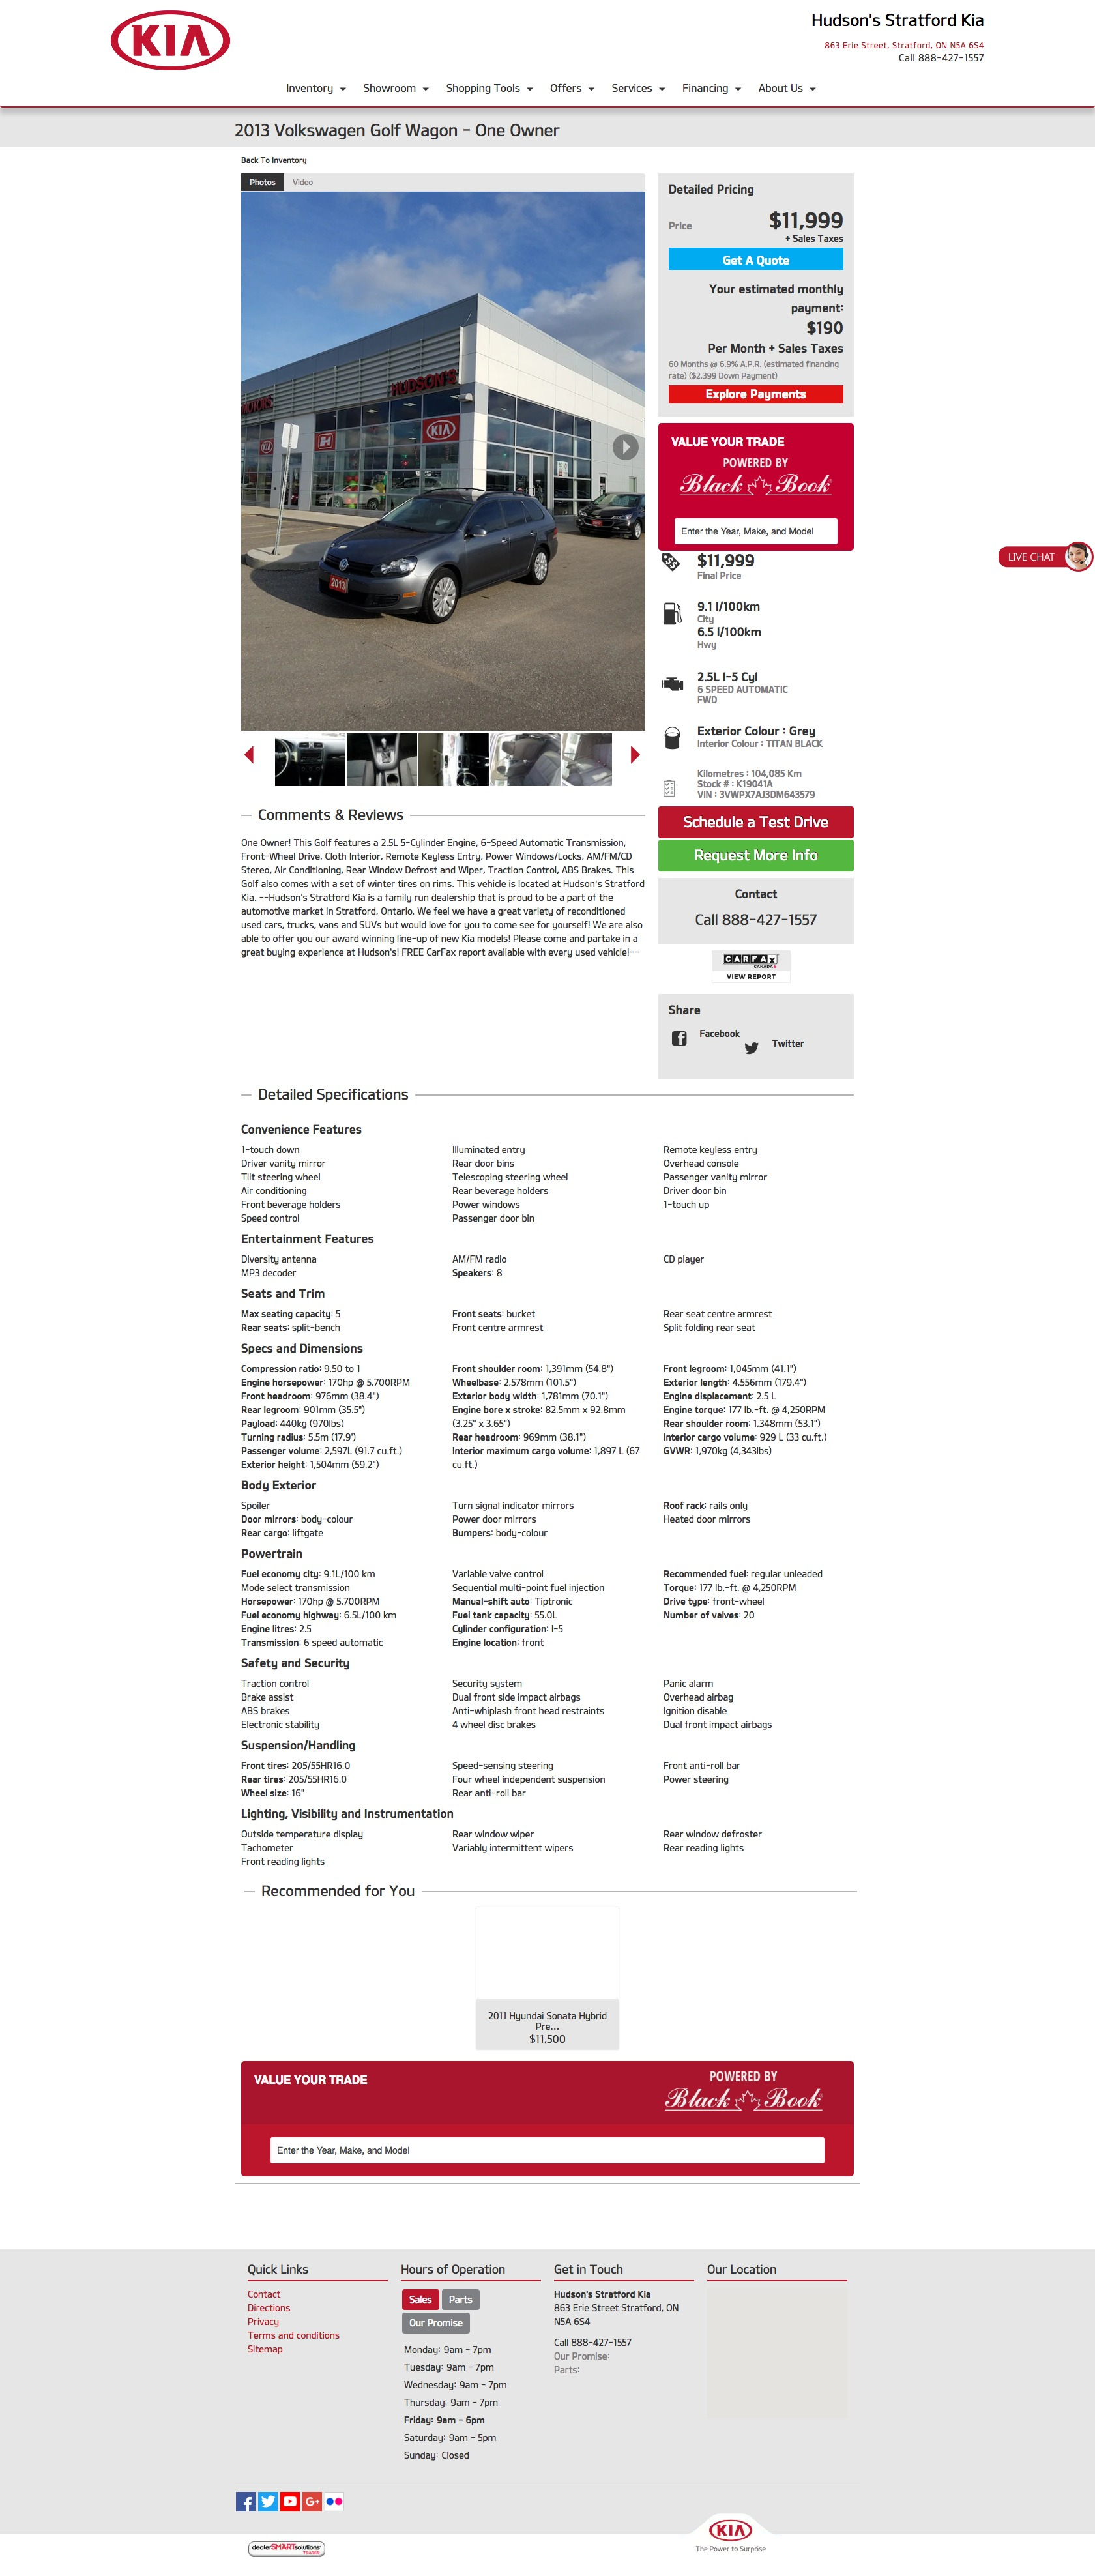car: (630, 744, 642, 764)
